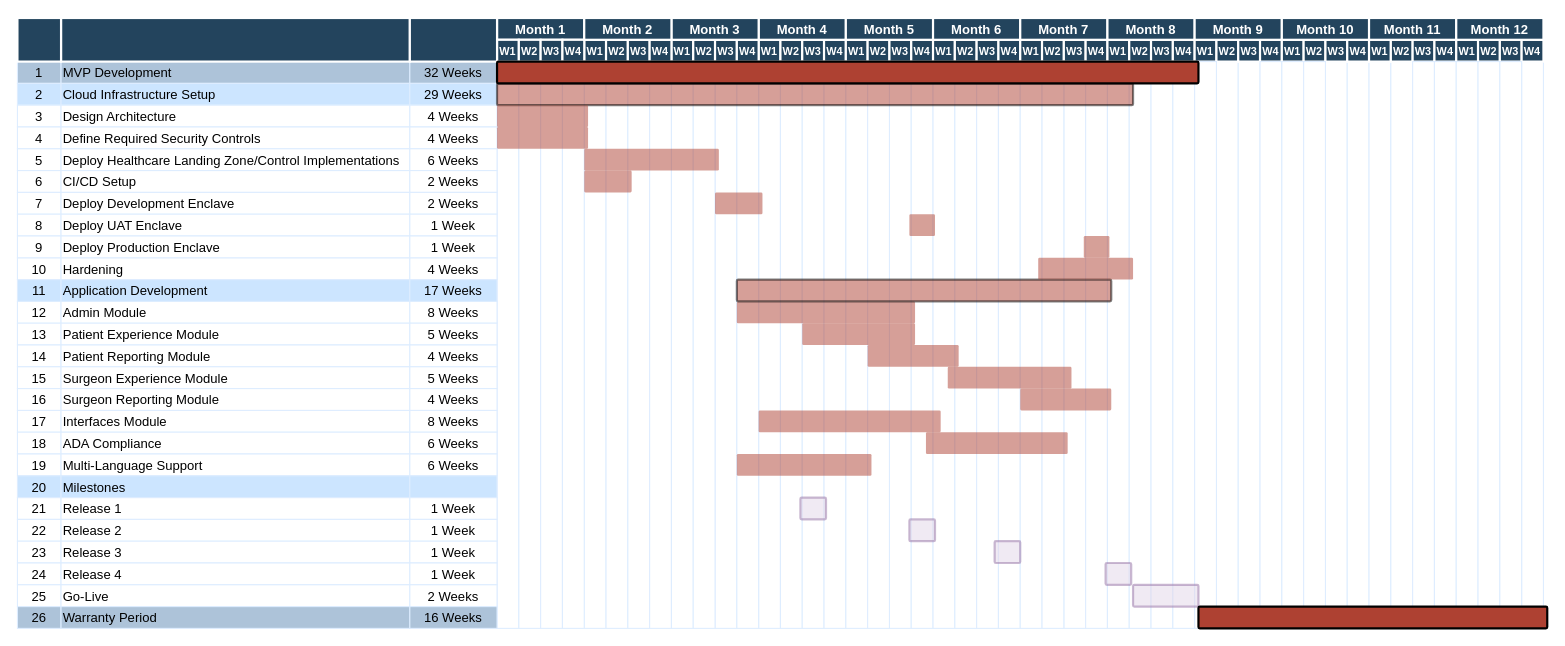
Image size: 1565x646. Some labels were removed from this diagram. Here are the shapes that lost their labels. From the top down, the centre of each, then its label:
At point (234, 39): "Task Name".
At point (453, 39): "Duration".
